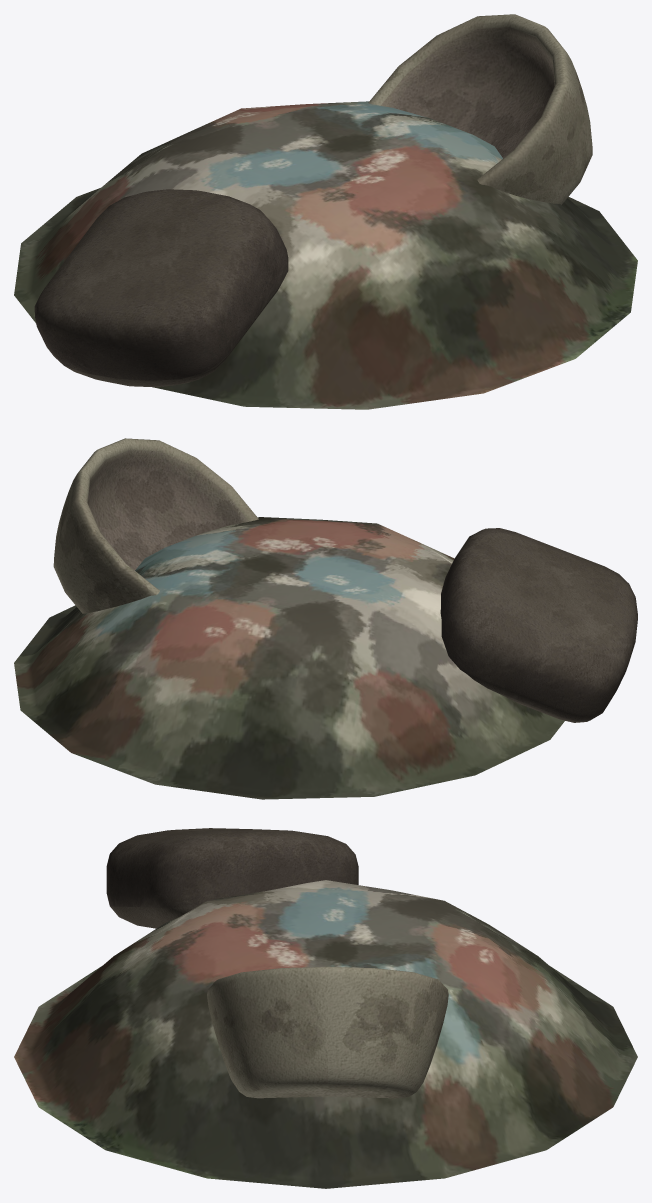
Rendered from trash_litter.fbx.
3 views of the same model, one above another, from view 1: azimuth 30°, elevation 25°; view 2: azimuth 150°, elevation 25°; view 3: azimuth 270°, elevation 25° (orthographic). The views are drawn at different scales.
Visible parts, largest first — view 1: polySurface2, pCube30, pCube29; view 2: polySurface2, pCube30, pCube29; view 3: polySurface2, pCube29, pCube30.
Boxes of the visible parts, left/top/right/bottom form: polySurface2: left=14, top=101, right=637, bottom=409; pCube30: left=34, top=189, right=288, bottom=387; pCube29: left=368, top=14, right=592, bottom=204; polySurface2: left=14, top=517, right=564, bottom=799; pCube30: left=440, top=528, right=637, bottom=722; pCube29: left=53, top=438, right=258, bottom=613; polySurface2: left=14, top=880, right=637, bottom=1188; pCube29: left=207, top=966, right=448, bottom=1098; pCube30: left=106, top=828, right=358, bottom=928.
Size of the model in its own units: 27.5 by 8.82 by 25.56.
Materials: 3 (3 with a texture image).
